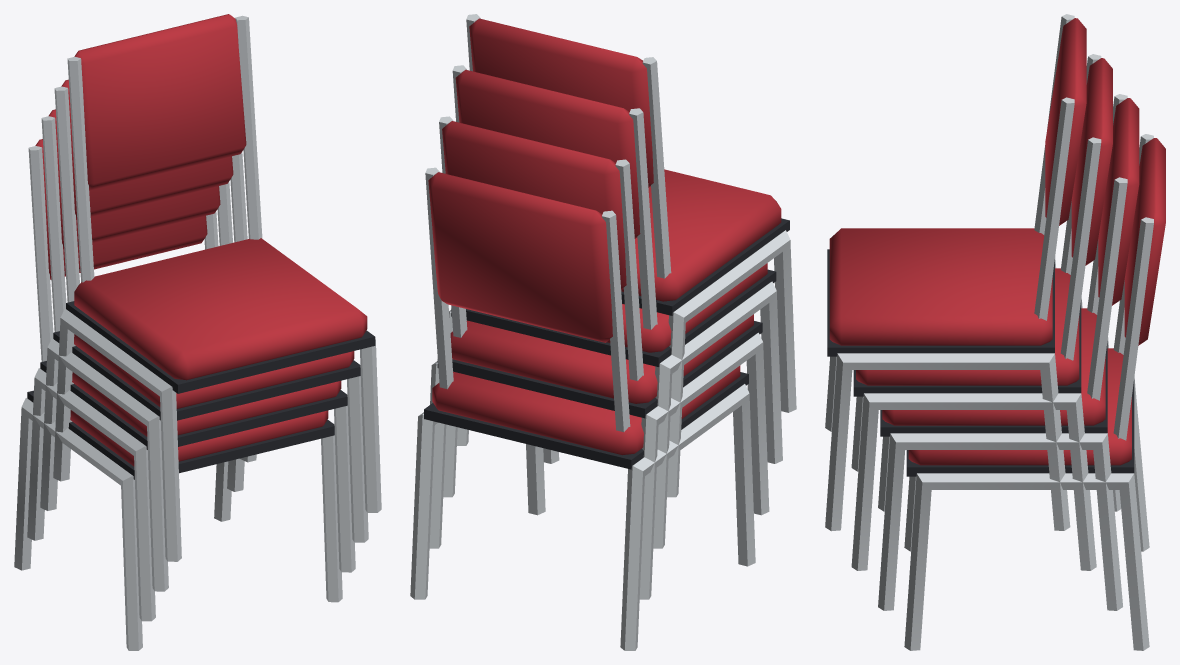
The model's file is Shop_StackedChairs.fbx.
3 renders of one model, left to right at view 1: azimuth 30°, elevation 25°; view 2: azimuth 150°, elevation 25°; view 3: azimuth 270°, elevation 25°, orthographic. The views are drawn at different scales.
Visible parts, largest first — view 1: Vinyl, Frame, Piping; view 2: Vinyl, Frame, Piping; view 3: Vinyl, Frame, Piping.
Boxes of the visible parts, x1=… form: Vinyl: x1=35, y1=14, x2=367, y2=466; Frame: x1=14, y1=15, x2=381, y2=650; Piping: x1=27, y1=301, x2=375, y2=479; Vinyl: x1=428, y1=18, x2=781, y2=455; Frame: x1=410, y1=14, x2=796, y2=650; Piping: x1=424, y1=218, x2=789, y2=469; Vinyl: x1=829, y1=18, x2=1165, y2=465; Frame: x1=825, y1=14, x2=1153, y2=650; Piping: x1=827, y1=249, x2=1134, y2=476.
Size of the model in its own units: 171 by 408 by 232.
